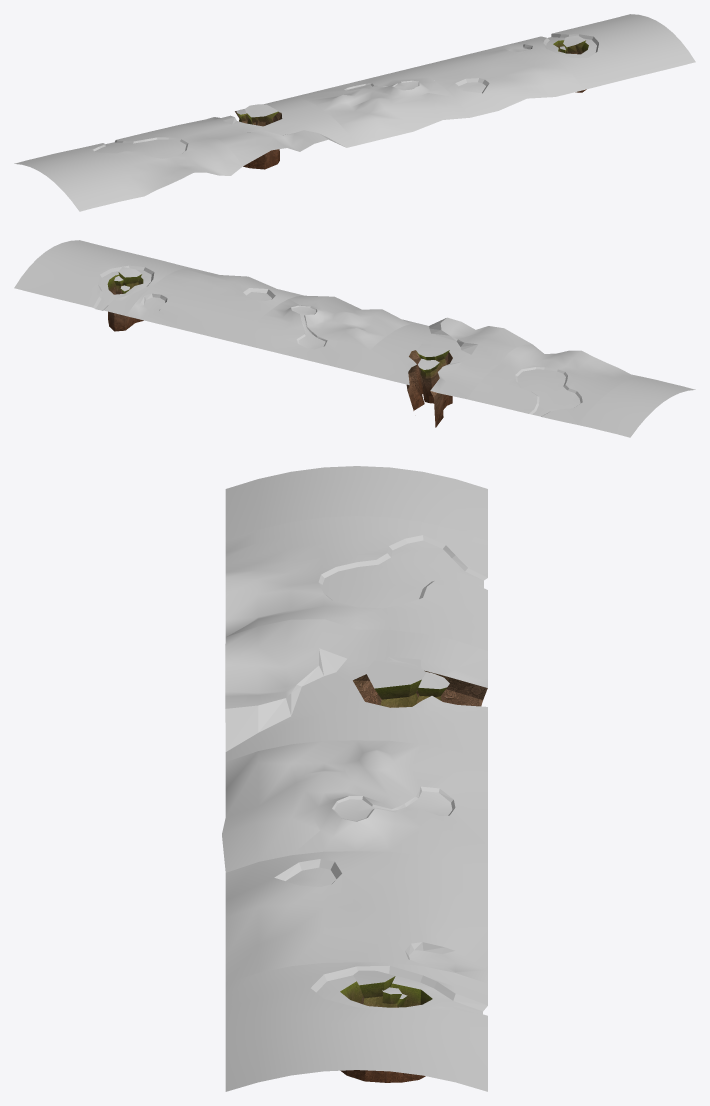
File: Bigmap_dibiao_All.FBX
The picture shows the model from 3 angles, top to bottom: view 1: azimuth 30°, elevation 25°; view 2: azimuth 150°, elevation 25°; view 3: azimuth 270°, elevation 25°; orthographic projection. The views are drawn at different scales.
Visible parts, largest first — view 1: Plane05, Plane02, Sphere01, Object01, Object44, Object45, Object07; view 2: Object44, Object01, Plane05, Plane02, Sphere01, Object45, Object07; view 3: Object44, Plane05, Plane02, Sphere01, Object01, Object45, Object07.
Boxes of the visible parts, x1,y1,x2,y2 form: Plane05: [291, 70, 469, 145]; Plane02: [405, 42, 583, 117]; Sphere01: [519, 14, 695, 92]; Object01: [67, 125, 242, 198]; Object44: [178, 97, 356, 169]; Object45: [14, 151, 131, 211]; Object07: [560, 35, 586, 54]; Object44: [353, 317, 531, 427]; Object01: [467, 344, 642, 424]; Plane05: [240, 295, 418, 371]; Plane02: [126, 268, 303, 343]; Sphere01: [14, 240, 190, 331]; Object45: [578, 377, 695, 437]; Object07: [114, 267, 141, 294]; Object44: [225, 619, 487, 761]; Plane05: [222, 740, 487, 872]; Plane02: [225, 851, 487, 983]; Sphere01: [225, 962, 487, 1091]; Object01: [225, 516, 487, 650]; Object45: [225, 466, 487, 540]; Object07: [353, 970, 407, 1007].
Size of the model in its own units: 2719 by 258 by 507.
